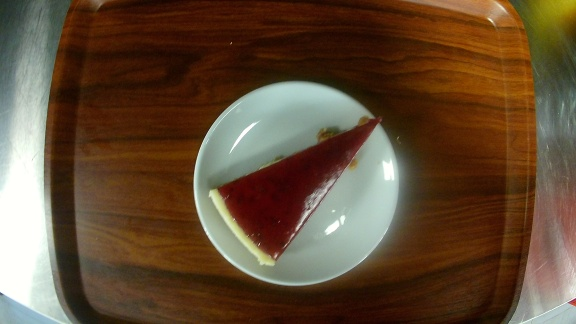frambuazlipasta: (191, 80, 399, 287)
